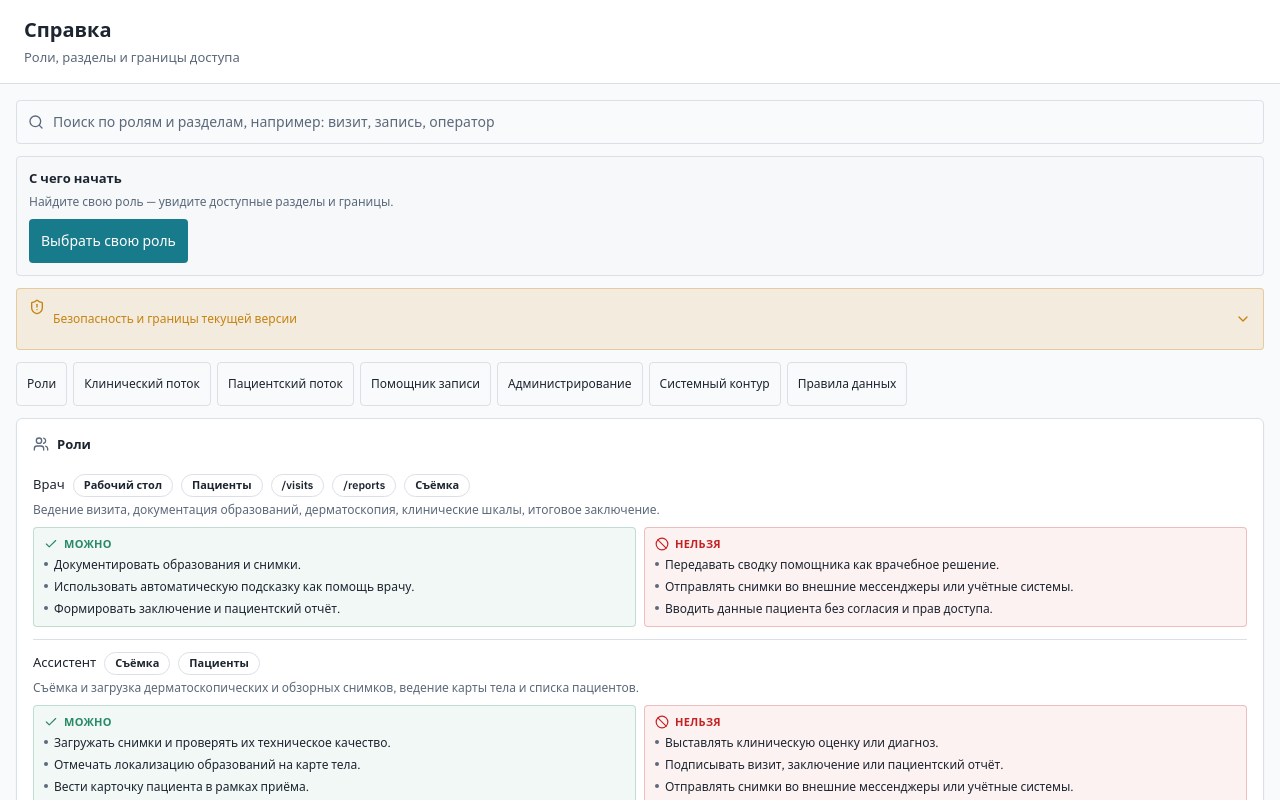
Test: HelpPage › рендерит заголовок и баннер безопасности
The image size is (1280, 800).
Check: the heading "Справка" is shown, box [24,16,112,43]
Click the button "Безопасность и границы текущей версии".
click(175, 318)  # box [53,296,1251,340]
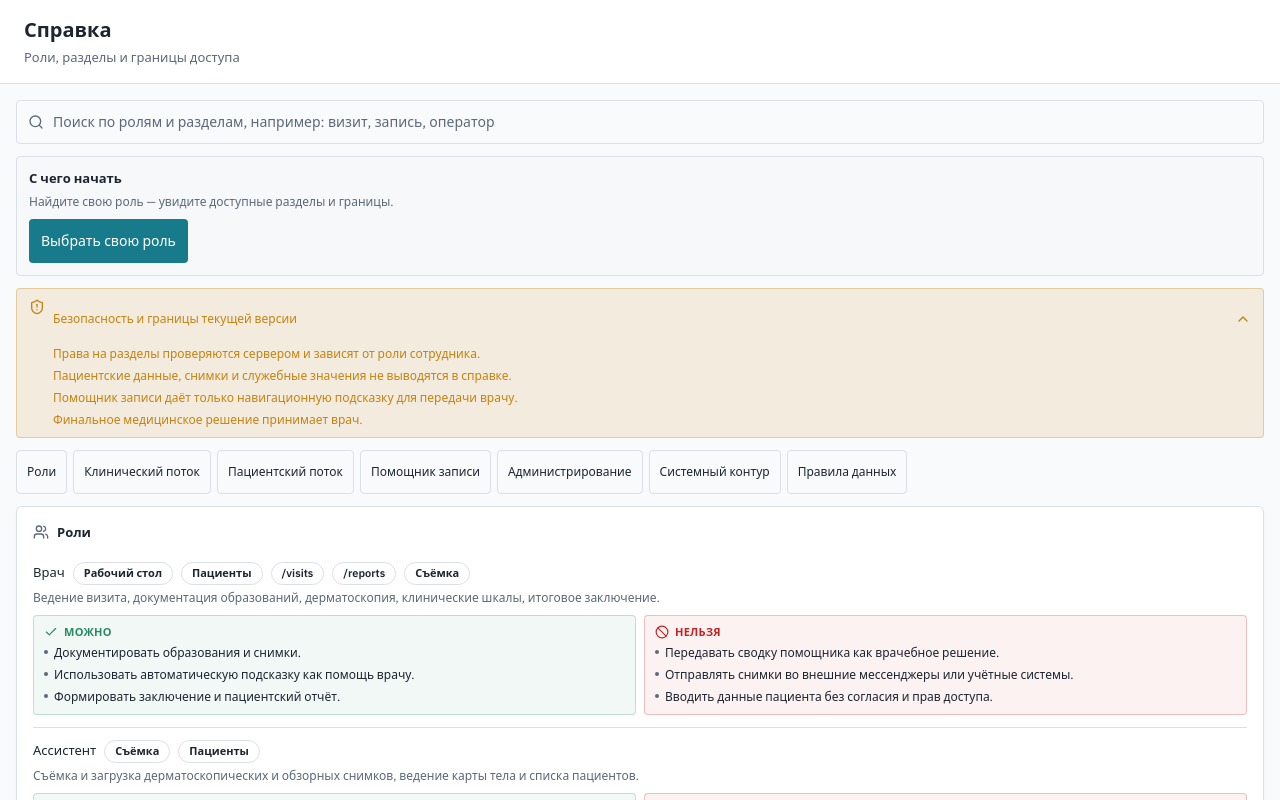
Check: the button "Безопасность и границы текущей версии" is expanded, box [53,296,1251,340]
Check: the list item "Права на разделы проверяются сервером" is shown, box [53,346,480,360]
Check: the list item "Пациентские данные, снимки и служебные значения не выводятся" is shown, box [53,368,512,382]
